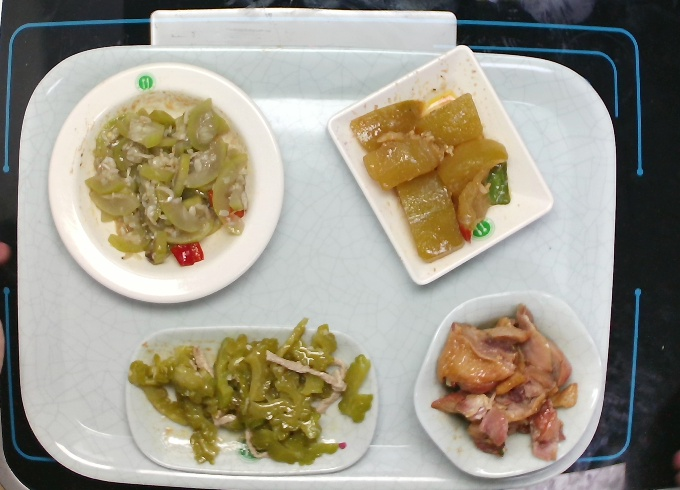WCQzf-Bai_Se_Si_Fang_Die: (320, 41, 557, 299)
WCQzf-Hua_Duo_Wan: (410, 286, 604, 481)
WCQzf-Kuan_Bian_Yuan_Die: (45, 60, 286, 309)
WCQzf-Tuo_Yuan_Pan: (119, 315, 398, 486)
